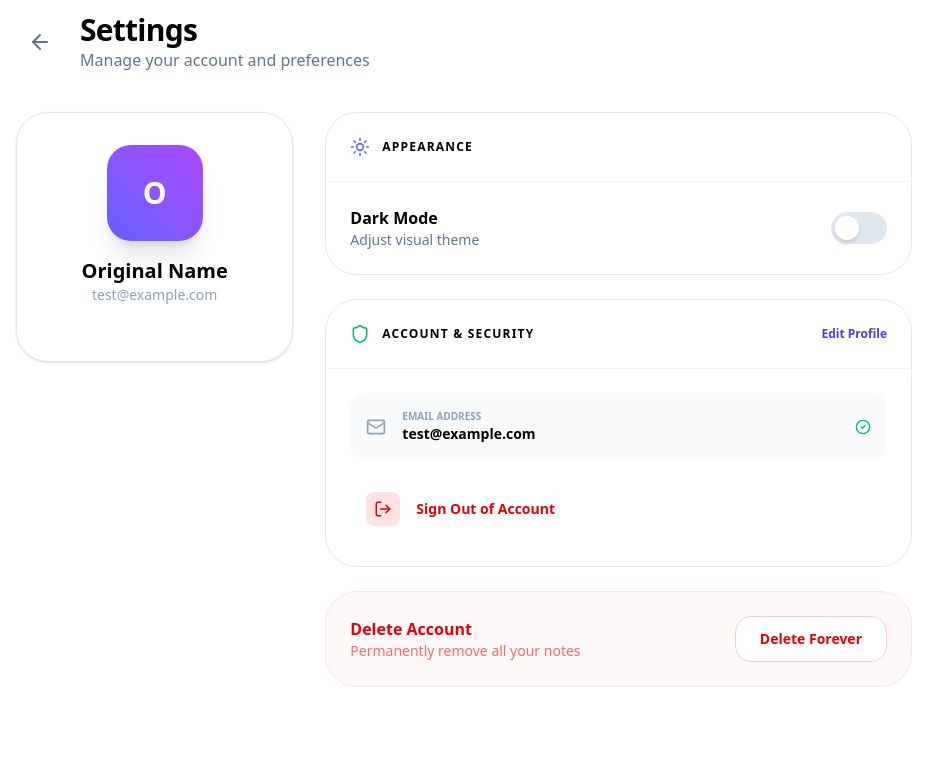
Scenario: SettingsPage - Profile Update › shows the update form when "Edit Profile" is clicked
This screenshot has width=929, height=783.
Note: Click the edit button
Click the button "Edit Profile".
click(854, 334)  # box [822,326,887,342]
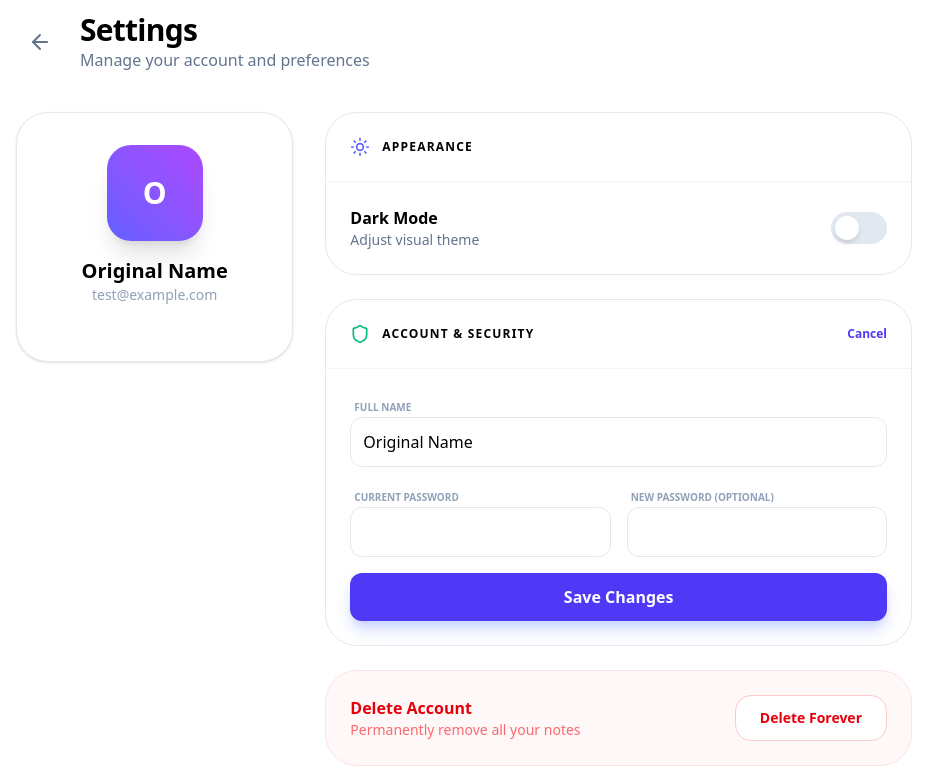
Expected: the field labelled "Full Name" is shown, [350,417,887,467]
Expected: the password field labelled "Current Password" is shown, [350,507,611,557]
